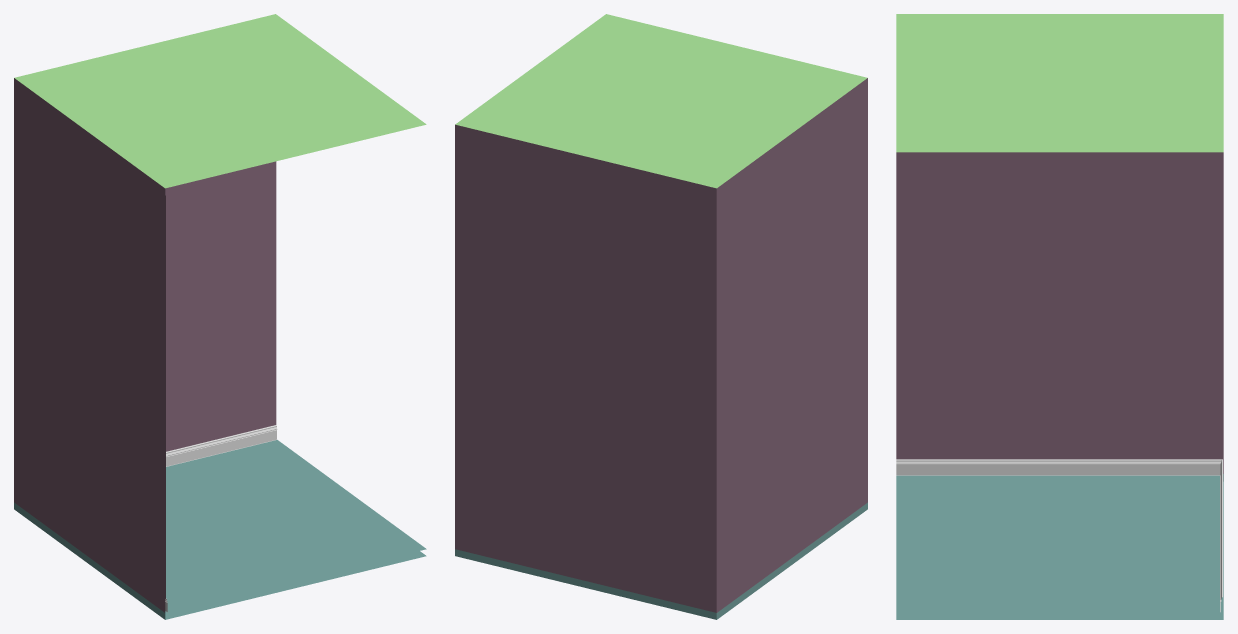
Rendered from Room_wall_2x2_corner_in.fbx.
3 renders of one model, left to right at view 1: azimuth 30°, elevation 25°; view 2: azimuth 150°, elevation 25°; view 3: azimuth 270°, elevation 25°, orthographic. The views are drawn at different scales.
Parts seen in each view (by area): view 1: Wall_2x2_corner_in; view 2: Wall_2x2_corner_in; view 3: Wall_2x2_corner_in.
Boxes of the visible parts, left/top/right/bottom form: Wall_2x2_corner_in: left=14, top=14, right=426, bottom=619; Wall_2x2_corner_in: left=455, top=14, right=867, bottom=619; Wall_2x2_corner_in: left=896, top=14, right=1223, bottom=619.
Size of the model in its own units: 1.97 by 3.1 by 1.97.
